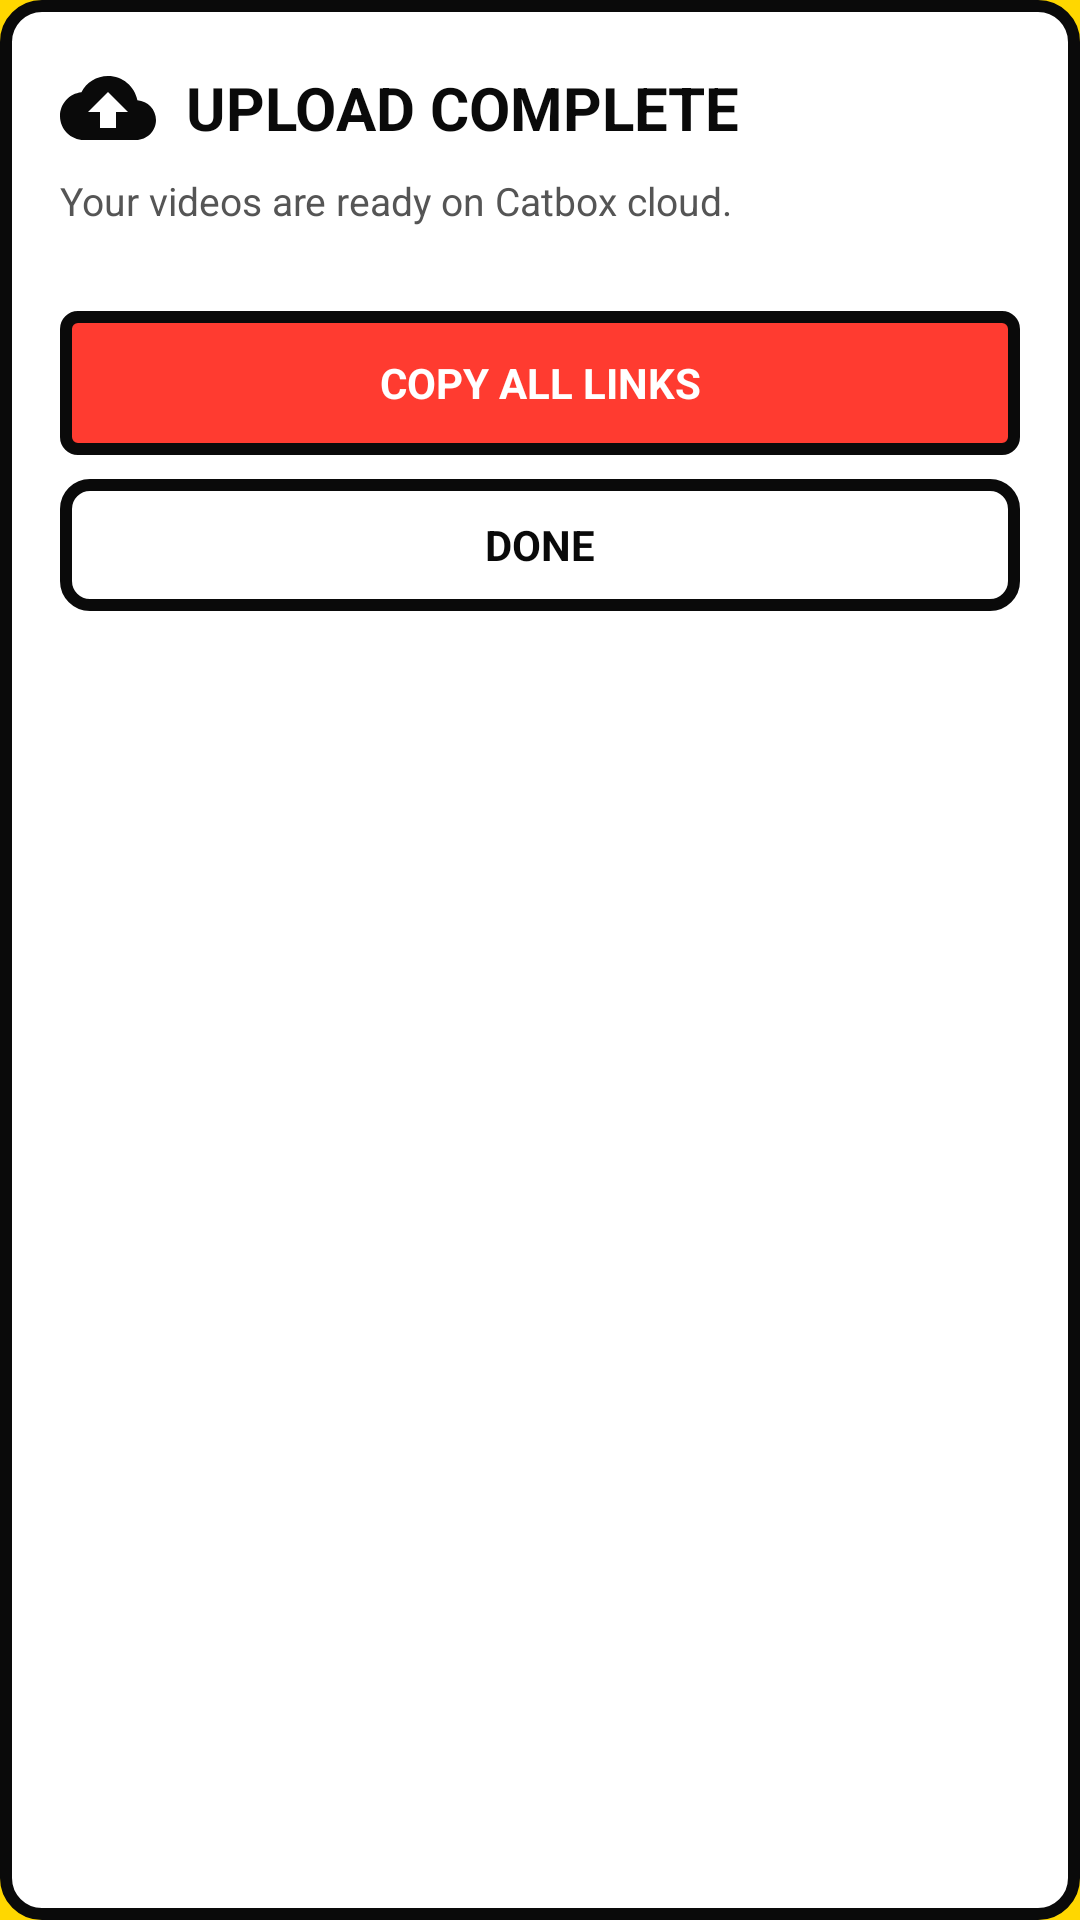

Locate icon controls on the screen. Image size 1080px x 1920px, boxes as (x1, y1, x2, y2).
Upload Success: (60, 76, 156, 140)
